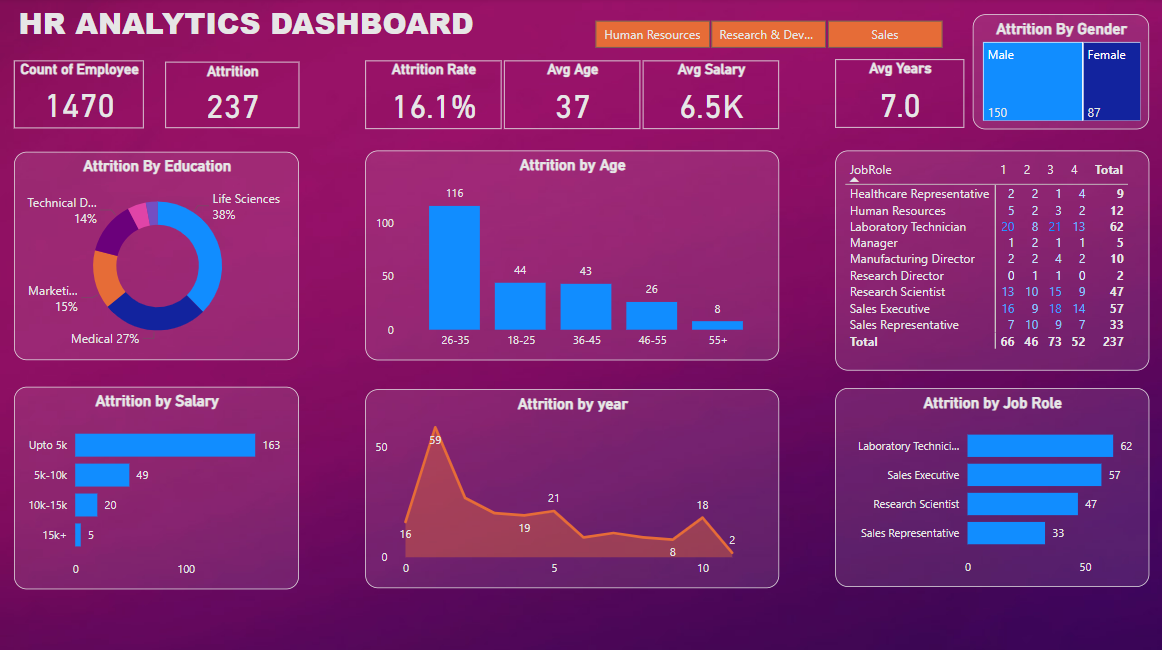

The dashboard page shown, as its layout file describes it:
{"tool":"powerbi","page":{"name":"Page 1","canvas":[1280,720],"ordinal":0},"visuals":[{"type":"card","title":"Attrition Rate","fields":{"Values":["HR_Analytics.AttritionRate"]},"box":[402.1,68.6,149.6,75.5],"z":0},{"type":"card","title":"Count of Employee","fields":{"Values":["CountNonNull(HR_Analytics.EmpID)"]},"box":[16.5,68.6,142.7,74.1],"z":1000},{"type":"card","title":"Attrition","fields":{"Values":["Sum(HR_Analytics.AttritionCount)"]},"box":[182.5,70,146.8,72.7],"z":2000},{"type":"card","title":"Avg Age","fields":{"Values":["Avg(HR_Analytics.Age)"]},"box":[554.1,68.1,149.6,75.5],"z":3000},{"type":"card","title":"Avg Salary","fields":{"Values":["Avg(HR_Analytics.MonthlyIncome)"]},"box":[706.7,68.6,149.6,75.5],"z":4000},{"type":"card","title":"Avg Years","fields":{"Values":["Avg(HR_Analytics.YearsAtCompany)"]},"box":[918,67.2,141.3,75.5],"z":5000},{"type":"donutChart","title":"Attrition By Education","fields":{"Category":["HR_Analytics.EducationField"],"Y":["Sum(HR_Analytics.AttritionCount)"]},"box":[16.5,168.8,312.9,229.2],"z":6000},{"type":"columnChart","title":"Attrition by Age","fields":{"Category":["HR_Analytics.AgeGroup"],"Y":["Sum(HR_Analytics.AttritionCount)"]},"box":[402.1,167.4,454.2,230.5],"z":7000},{"type":"pivotTable","fields":{"Rows":["HR_Analytics.JobRole"],"Columns":["HR_Analytics.JobSatisfaction"],"Values":["Sum(HR_Analytics.AttritionCount)"]},"box":[918,167.4,344.4,241.5],"z":8000},{"type":"barChart","title":"Attrition by Salary","fields":{"Category":["HR_Analytics.SalarySlab"],"Y":["Sum(HR_Analytics.AttritionCount)"]},"box":[16.5,426.8,312.9,222.3],"z":9000},{"type":"barChart","title":"Attrition by Job Role","fields":{"Category":["HR_Analytics.JobRole"],"Y":["Sum(HR_Analytics.AttritionCount)"]},"box":[918,428.1,344.4,218.2],"z":10000},{"type":"areaChart","title":"Attrition by year","fields":{"Category":["HR_Analytics.YearsAtCompany"],"Y":["Sum(HR_Analytics.AttritionCount)"]},"box":[402.1,429.5,454.2,218.2],"z":11000},{"type":"treemap","title":"Attrition By Gender","fields":{"Group":["HR_Analytics.Gender"],"Values":["Sum(HR_Analytics.AttritionCount)"]},"box":[1069,17.8,193.5,126.2],"z":12000},{"type":"slicer","fields":{"Values":["HR_Analytics.Department"]},"box":[628.5,17.8,430.9,43.9],"z":13000},{"type":"textbox","box":[16.5,0,524.2,61.7],"z":14000}]}

Visuals, with their boxes in screenshot pixels (x1, y1, x2, y2), scaled from the page's 1280x720 canvas onto the 1162x650 screenshot:
"Attrition Rate" card: 365:62:501:130
"Count of Employee" card: 15:62:145:129
"Attrition" card: 166:63:299:129
"Avg Age" card: 503:61:639:130
"Avg Salary" card: 642:62:777:130
"Avg Years" card: 833:61:962:129
"Attrition By Education" donutChart: 15:152:299:359
"Attrition by Age" columnChart: 365:151:777:359
pivotTable - HR_Analytics.JobRole x HR_Analytics.JobSatisfaction: 833:151:1146:369
"Attrition by Salary" barChart: 15:385:299:586
"Attrition by Job Role" barChart: 833:386:1146:583
"Attrition by year" areaChart: 365:388:777:585
"Attrition By Gender" treemap: 970:16:1146:130
slicer - HR_Analytics.Department: 571:16:962:56
textbox: 15:0:491:56
